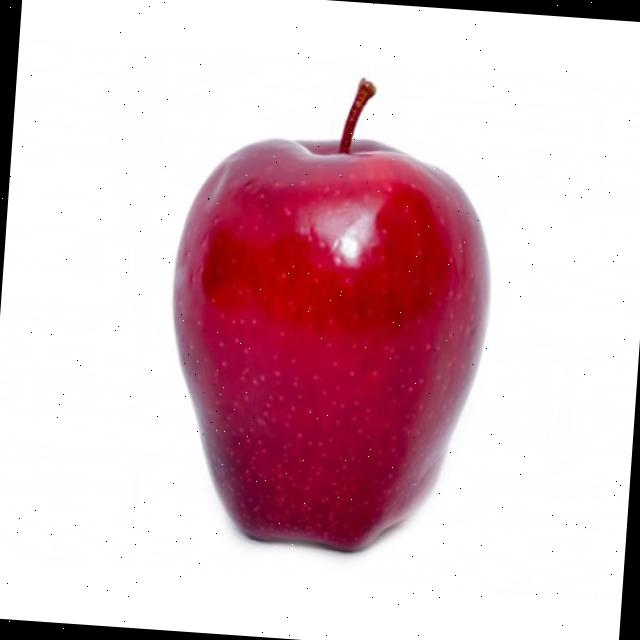Apel: (153, 64, 504, 562)
